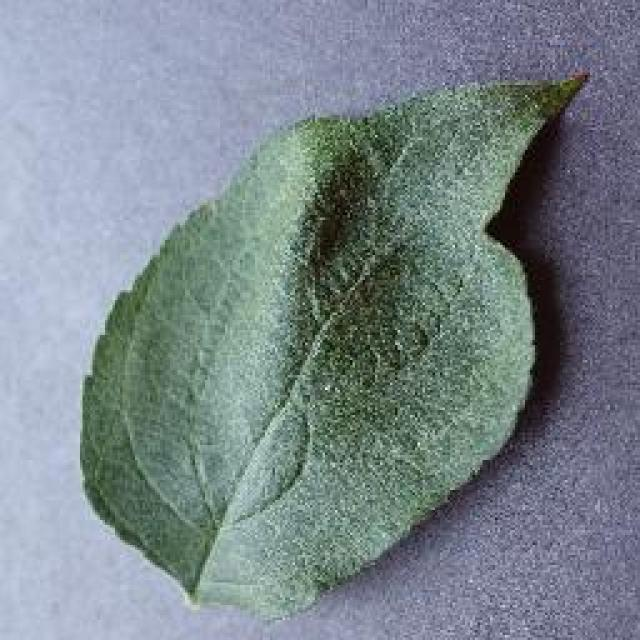apple healthy: (75, 68, 590, 622)
